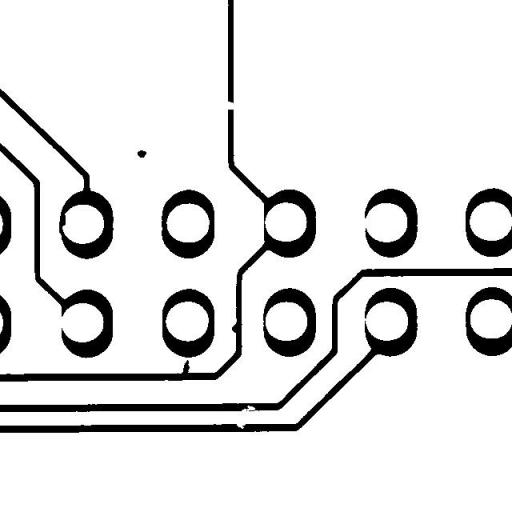copper: (130, 142, 154, 165)
mousebite: (233, 398, 262, 420), (229, 415, 253, 436)
open: (217, 94, 242, 116)
short: (51, 203, 73, 241)
spur: (174, 352, 196, 383), (224, 314, 247, 340)
